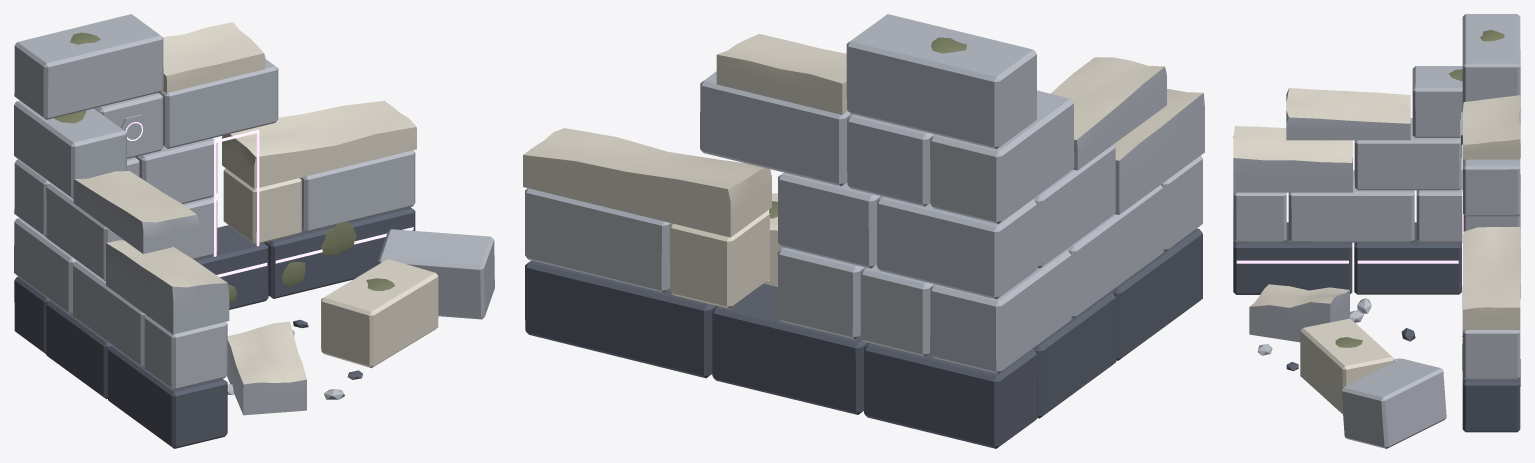
File: deco_ruin_wall.fbx
3 views of the same model, side by side, from view 1: azimuth 30°, elevation 25°; view 2: azimuth 150°, elevation 25°; view 3: azimuth 270°, elevation 25° (orthographic). The views are drawn at different scales.
Visible parts, largest first — view 1: RuinWall_WallA, RuinWall_WallB, RuinWall_Rubble; view 2: RuinWall_WallA, RuinWall_WallB, RuinWall_Rubble; view 3: RuinWall_WallB, RuinWall_WallA, RuinWall_Rubble.
Part boxes in pixels (<box>): RuinWall_WallA: <box>14,14,416,353</box>; RuinWall_WallB: <box>14,100,229,448</box>; RuinWall_Rubble: <box>227,229,494,415</box>; RuinWall_WallA: <box>523,14,1037,448</box>; RuinWall_WallB: <box>930,57,1204,418</box>; RuinWall_Rubble: <box>764,193,783,286</box>; RuinWall_WallB: <box>1233,66,1462,294</box>; RuinWall_WallA: <box>1460,14,1520,432</box>; RuinWall_Rubble: <box>1249,284,1446,448</box>.
Size of the model in its own units: 436 by 306 by 299.
